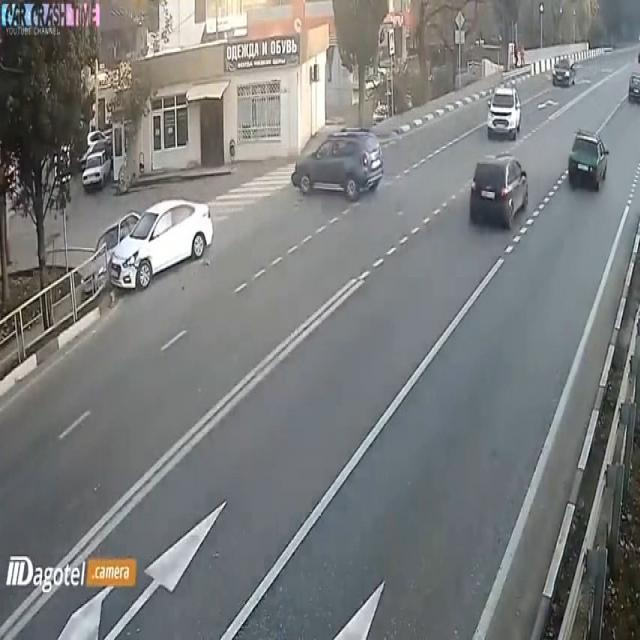Accident: (99, 178, 215, 292)
